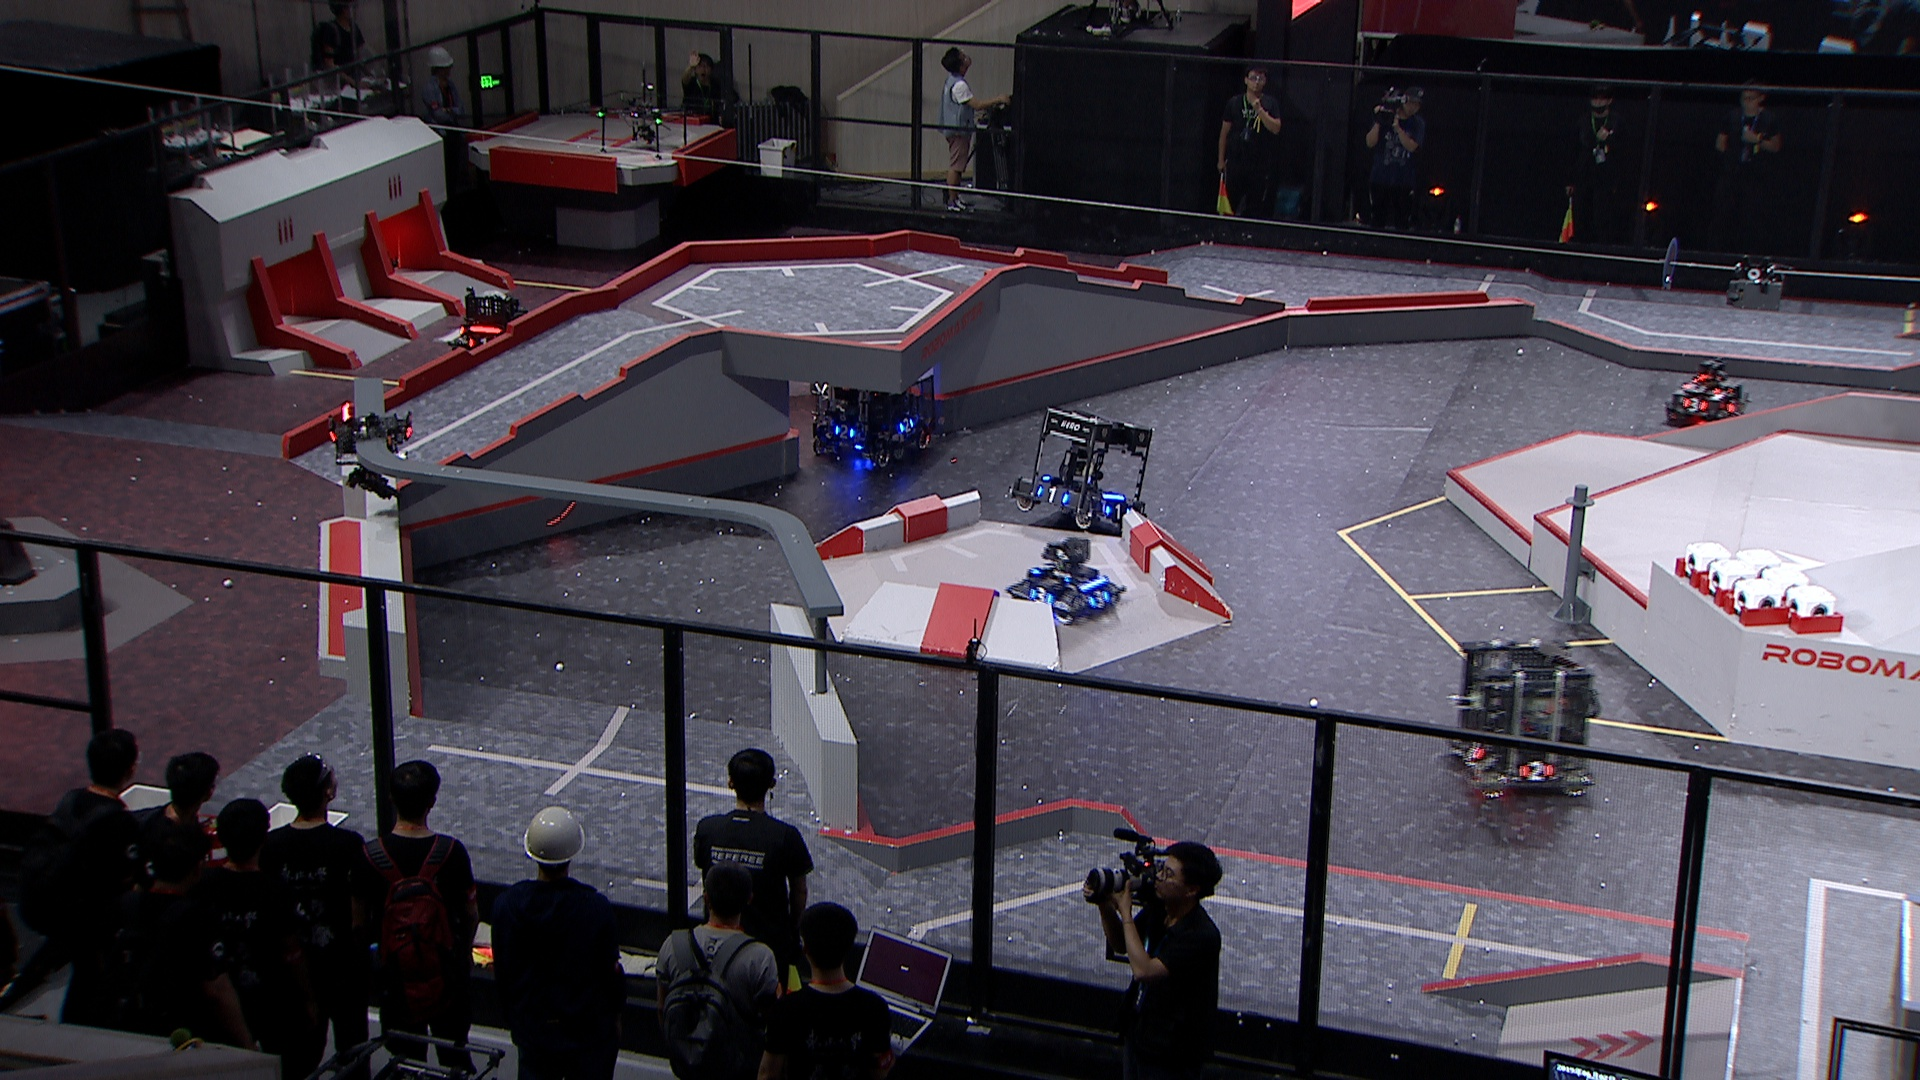armor: (1035, 485, 1069, 508), (1514, 761, 1551, 781), (1098, 500, 1130, 522), (1087, 589, 1110, 609), (1685, 382, 1718, 396), (1683, 398, 1708, 413), (1029, 588, 1050, 605), (898, 414, 916, 433), (1466, 741, 1484, 761), (832, 425, 855, 439), (467, 334, 487, 349), (1727, 398, 1741, 413)
car: (1443, 632, 1600, 799), (1002, 404, 1153, 535), (804, 348, 938, 465), (1011, 535, 1121, 632), (444, 290, 531, 371), (1662, 356, 1747, 436)
watcher: (315, 400, 419, 505)
